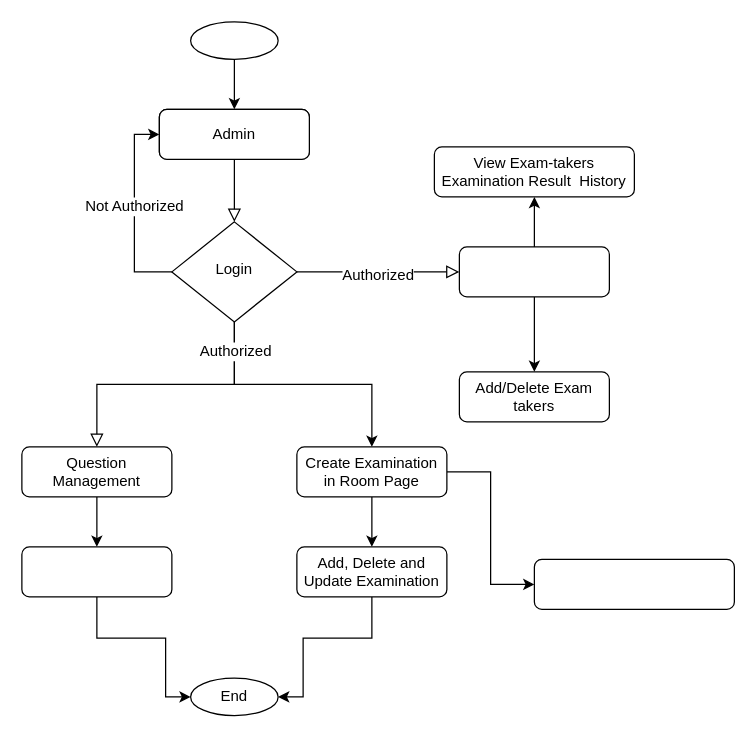
The diagram is 756 pixels wide and 738 high, and some of its shapes have lost their labels. Each missing label, with the centre of its shape:
Accept Validated Student/Alumni: point 533,271
Add, Delete and Update questions: point 96,571
Set Countdown, Competency and Expiry Date: point 633,583
Start: point 233,40
